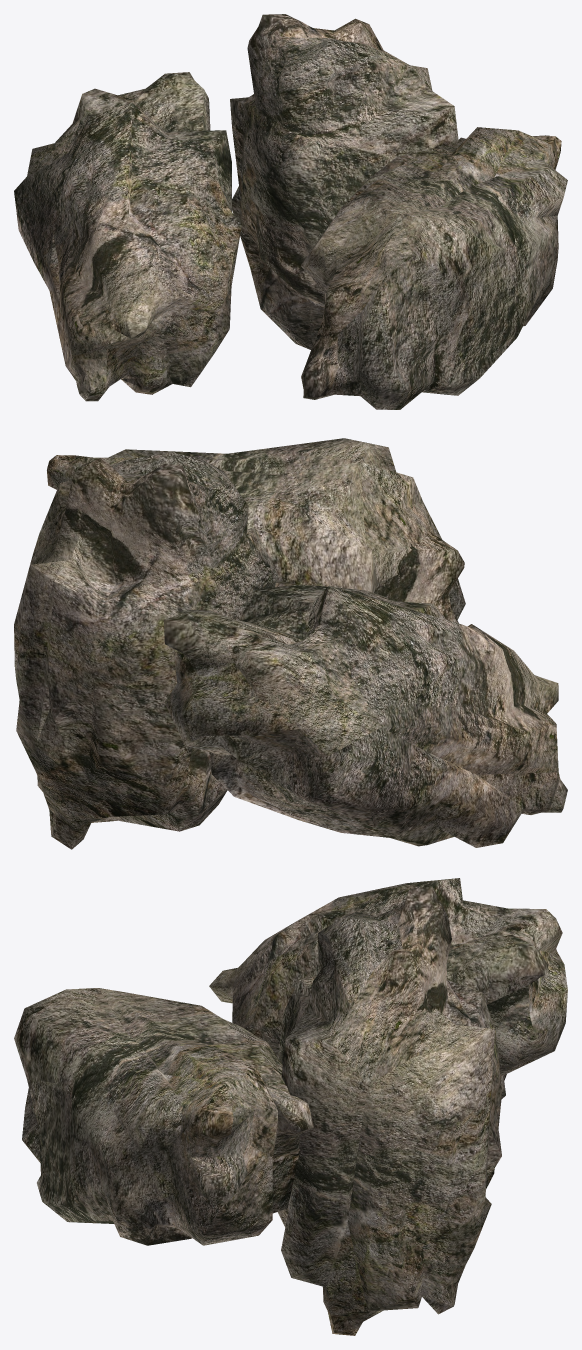
The model's file is rock3.glb.
3 renders of one model, top to bottom at view 1: azimuth 30°, elevation 25°; view 2: azimuth 150°, elevation 25°; view 3: azimuth 270°, elevation 25°, orthographic. The views are drawn at different scales.
Visible parts, largest first — view 1: rock3; view 2: rock3; view 3: rock3.
Boxes of the visible parts, x1,y1,x2,y2 form: rock3: (14,14,567,409); rock3: (14,438,567,849); rock3: (14,878,567,1335).
Bounding box in the file's own units: 5.77 × 4.08 × 5.25.
Materials: 1 (1 with a texture image).
